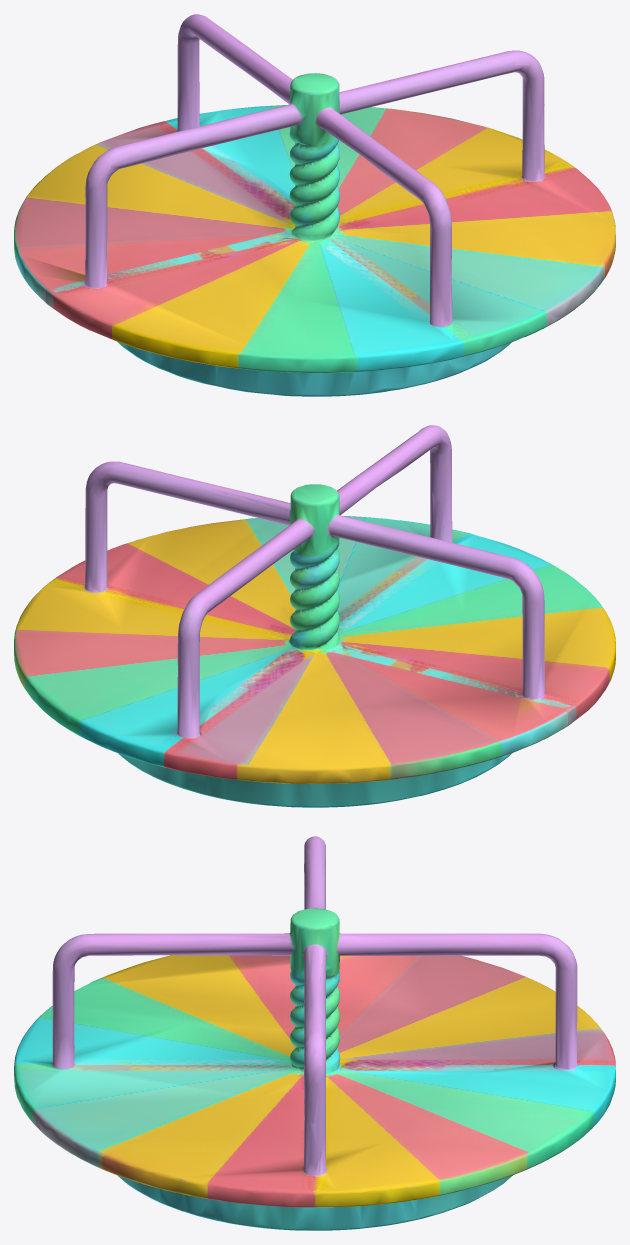
File: static.glb
3 renders of one model, top to bottom at view 1: azimuth 30°, elevation 25°; view 2: azimuth 150°, elevation 25°; view 3: azimuth 270°, elevation 25°, orthographic.
Visible parts, largest first — view 1: Mesh_0; view 2: Mesh_0; view 3: Mesh_0.
Boxes of the visible parts, box(x1,y1,x2,y2) form: Mesh_0: box(14, 14, 615, 396); Mesh_0: box(14, 425, 615, 807); Mesh_0: box(14, 836, 615, 1230).
Bounding box in the file's own units: 1.9 × 0.7771 × 1.9.
Materials: 1 (1 with a texture image).
